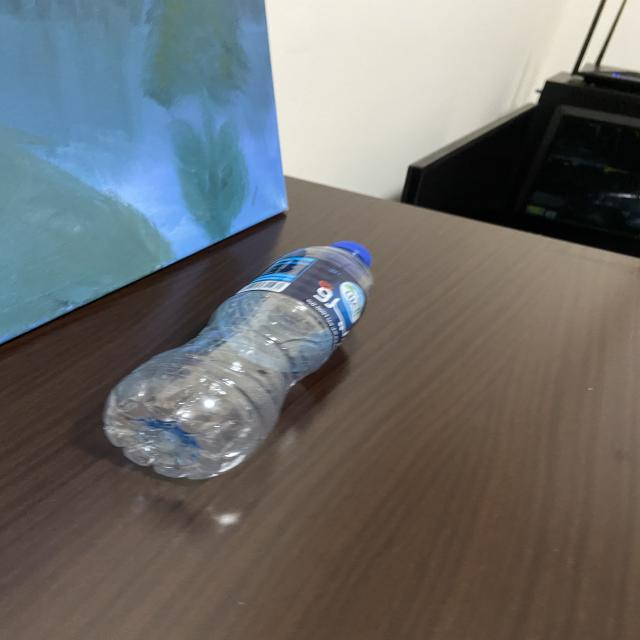bottle: (108, 237, 388, 485)
